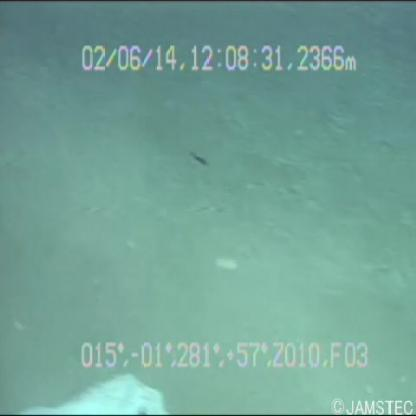Rác: (16, 353, 178, 416)
